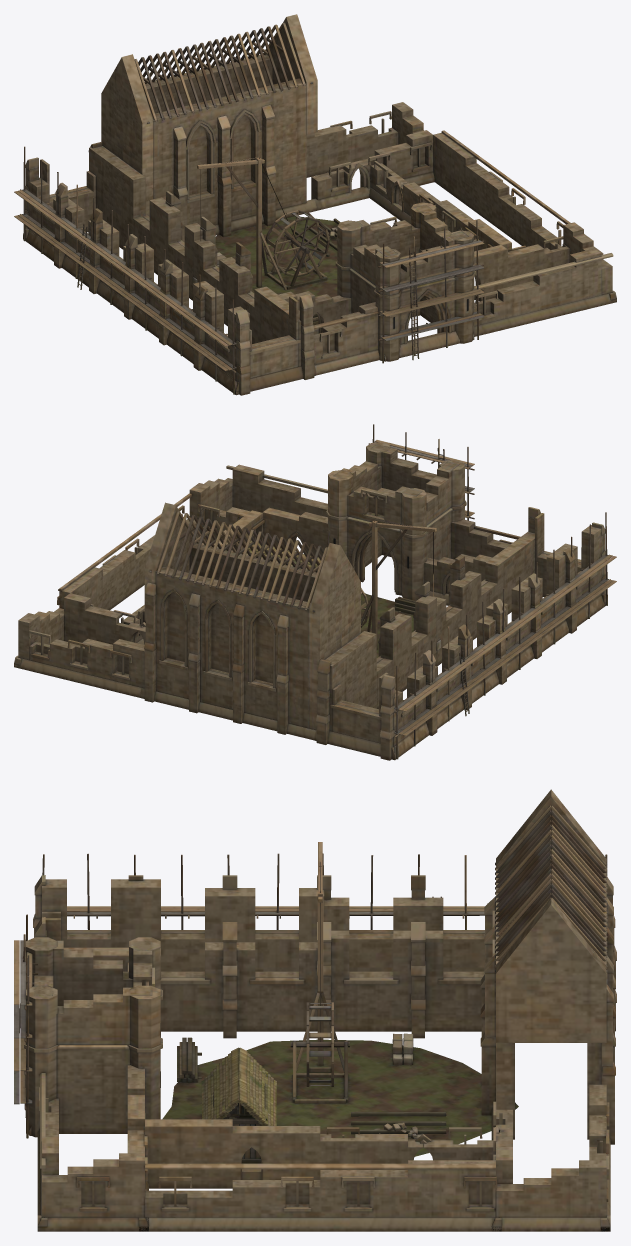
The model's file is university_build2.glb.
3 renders of one model, top to bottom at view 1: azimuth 30°, elevation 25°; view 2: azimuth 150°, elevation 25°; view 3: azimuth 270°, elevation 25°, orthographic. The views are drawn at different scales.
Visible parts, largest first — view 1: university_build2_LOD0; view 2: university_build2_LOD0; view 3: university_build2_LOD0.
Part boxes in pixels (left/top/right/bottom): university_build2_LOD0: left=14, top=14, right=616, bottom=395; university_build2_LOD0: left=14, top=424, right=616, bottom=760; university_build2_LOD0: left=14, top=789, right=616, bottom=1231.
Size of what is drawn, in the model's own units: 31.88 by 14.07 by 31.61.
1 material, 1 textured.
